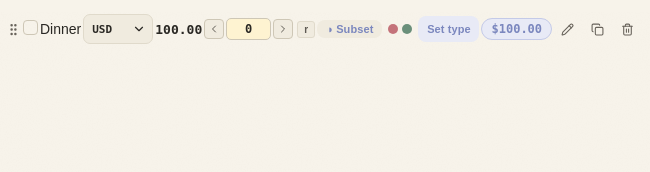
Scenario: CostRow - Who Field Clickability › Subset split type › uses a named button as the pointer and keyboard entry for assigned groups
Expected: the element with class "who-dots" is shown, [388, 24, 412, 34]
Focus the button named "Change assigned groups for Dinner" at (400, 29), box [384, 15, 416, 43]
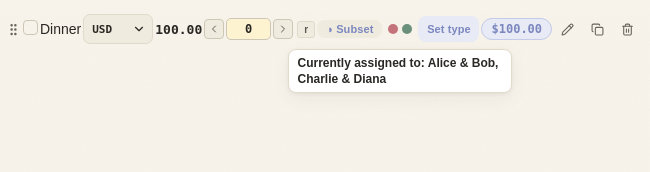
Now the tooltip reads "Currently assigned to: Alice & Bob, Charlie & Diana", box [298, 56, 498, 86]
